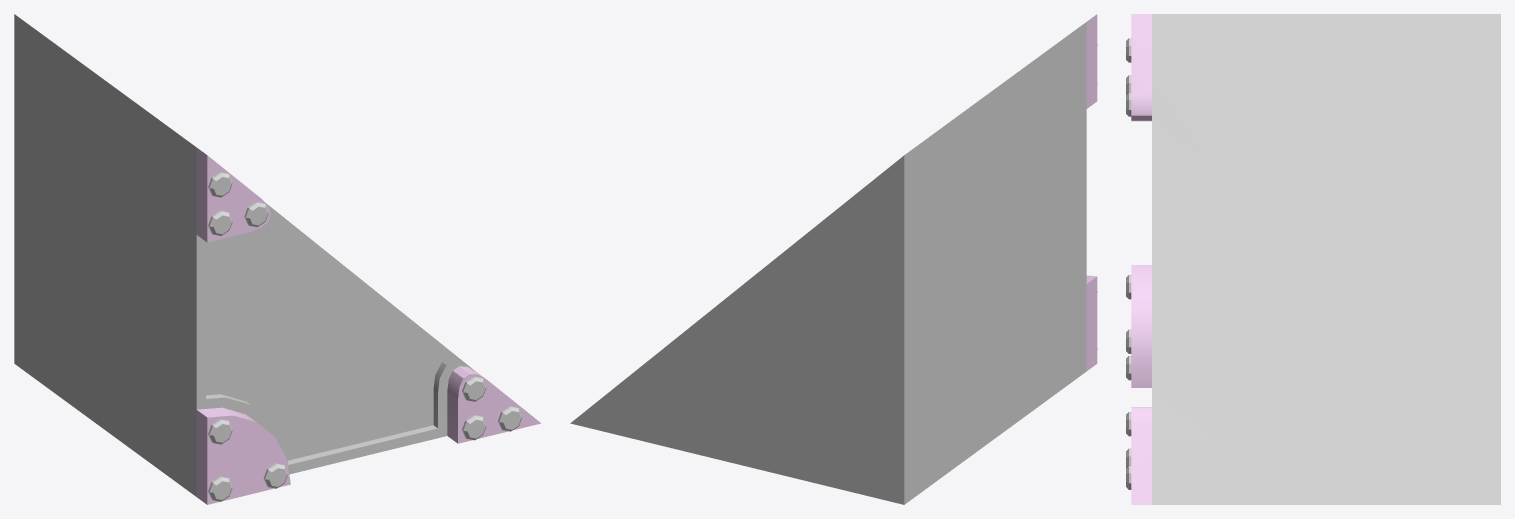
File: Corner.fbx
3 renders of one model, left to right at view 1: azimuth 30°, elevation 25°; view 2: azimuth 150°, elevation 25°; view 3: azimuth 270°, elevation 25°, orthographic. The views are drawn at different scales.
Parts seen in each view (by area): view 1: Corner; view 2: Corner; view 3: Corner.
Part boxes in pixels (x1,y1,x2,y2): Corner: (14, 14, 541, 504); Corner: (570, 14, 1097, 504); Corner: (1126, 14, 1500, 504).
Size of the model in its own units: 1 by 1 by 1.01.
